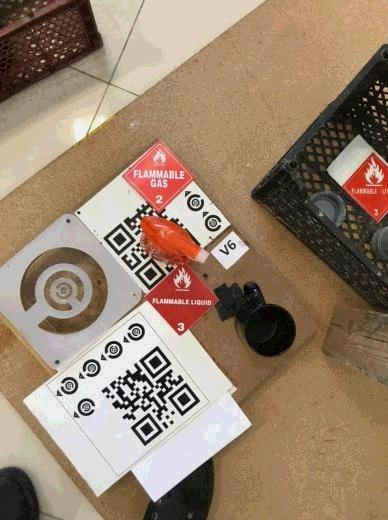flammable: (143, 265, 221, 337), (122, 140, 195, 210), (340, 151, 388, 223)
